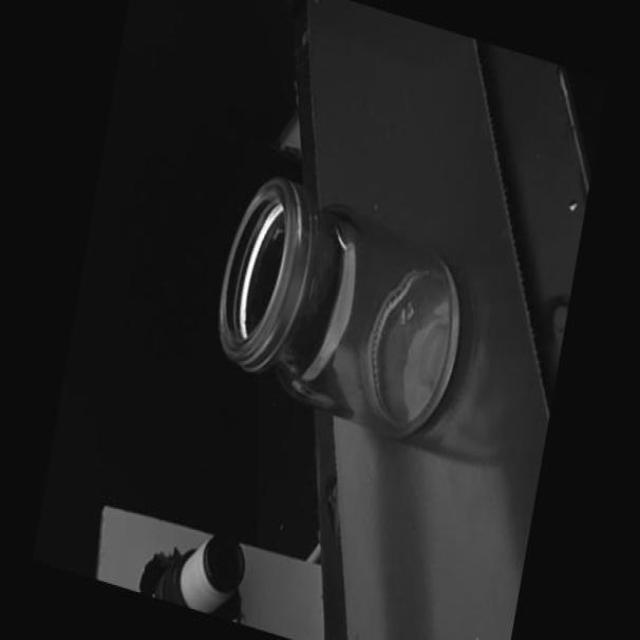defect: (332, 226, 350, 252)
glass: (205, 161, 478, 449)
